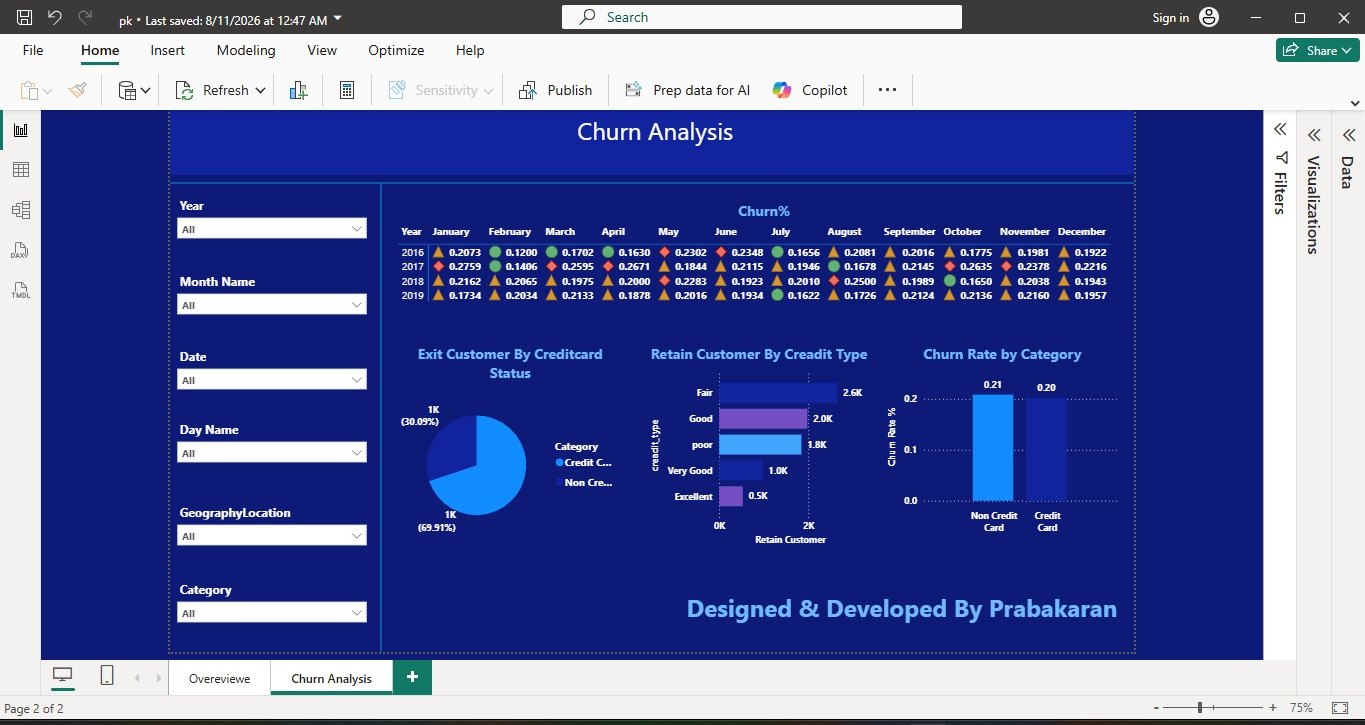

Layout of this report page (visuals, bound fields, positions):
{"tool":"powerbi","page":{"name":"Churn Analysis","canvas":[1280,720],"ordinal":1},"visuals":[{"type":"pivotTable","title":"Churn%","fields":{"Rows":["calender Table.Year"],"Columns":["calender Table.Month Name"],"Values":["Active Customer.Churn %"]},"box":[297.1,121.5,813.7,178.5],"z":0},{"type":"pieChart","title":"Exit Customer By Creditcard Status","fields":{"Y":["Active Customer.Exit Customer"],"Category":["Creditcard Category.Category"]},"box":[297.1,300,305.9,288.3],"z":1000},{"type":"textbox","box":[0,0,1280.5,86.3],"z":2000},{"type":"shape","box":[0,10.2,1280.5,172.7],"z":3000},{"type":"shape","box":[43.9,96.6,472.7,623.4],"z":4000},{"type":"slicer","fields":{"Values":["calender Table.Year"]},"box":[0,109.8,270.7,73.2],"z":5000},{"type":"slicer","fields":{"Values":["calender Table.Month Name"]},"box":[0,210.7,270.7,79],"z":6000},{"type":"slicer","fields":{"Values":["calender Table.Date"]},"box":[0,310.2,270.7,76.1],"z":7000},{"type":"slicer","fields":{"Values":["calender Table.Day Name"]},"box":[0,408.3,270.7,80.5],"z":8000},{"type":"slicer","fields":{"Values":["Location.GeographyLocation"]},"box":[0,518,270.7,80.5],"z":9000},{"type":"slicer","fields":{"Values":["Creditcard Category.Category"]},"box":[0,620.5,270.7,79],"z":10000},{"type":"clusteredBarChart","title":"Retain Customer By Creadit Type","fields":{"Y":["Active Customer.Retain Customer"],"Category":["Bank_Churn.creadit_type"]},"box":[639.5,300,294.1,288.3],"z":10001},{"type":"clusteredColumnChart","title":"Churn Rate  by Category","fields":{"Category":["Creditcard Category.Category"],"Y":["Active Customer.Churn Rate %"]},"box":[957.1,300,323.4,288.3],"z":10002},{"type":"textbox","box":[281,598.5,999.5,121.5],"z":10003}]}

Visuals, with their boxes on the page's 1280x720 design canvas (x1, y1, x2, y2). These are canvas units, not pixel positions in the 1365x725 screenshot, which may show the page scaled, cropped or inside an application window:
"Churn%" pivotTable: bbox(297, 122, 1111, 300)
"Exit Customer By Creditcard Status" pieChart: bbox(297, 300, 603, 588)
textbox: bbox(0, 0, 1280, 86)
shape: bbox(0, 10, 1280, 183)
shape: bbox(44, 97, 517, 720)
slicer - calender Table.Year: bbox(0, 110, 271, 183)
slicer - calender Table.Month Name: bbox(0, 211, 271, 290)
slicer - calender Table.Date: bbox(0, 310, 271, 386)
slicer - calender Table.Day Name: bbox(0, 408, 271, 489)
slicer - Location.GeographyLocation: bbox(0, 518, 271, 598)
slicer - Creditcard Category.Category: bbox(0, 620, 271, 700)
"Retain Customer By Creadit Type" clusteredBarChart: bbox(640, 300, 934, 588)
"Churn Rate  by Category" clusteredColumnChart: bbox(957, 300, 1280, 588)
textbox: bbox(281, 598, 1280, 720)
